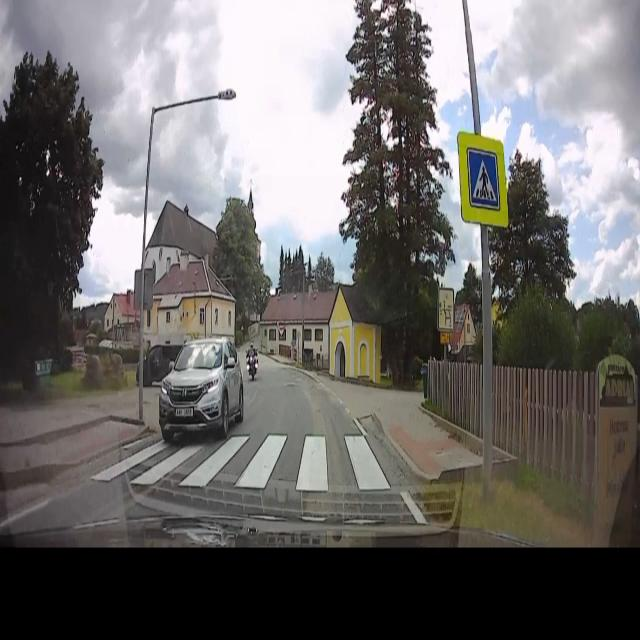Pedestrian crosswalk: (458, 129, 510, 229)
